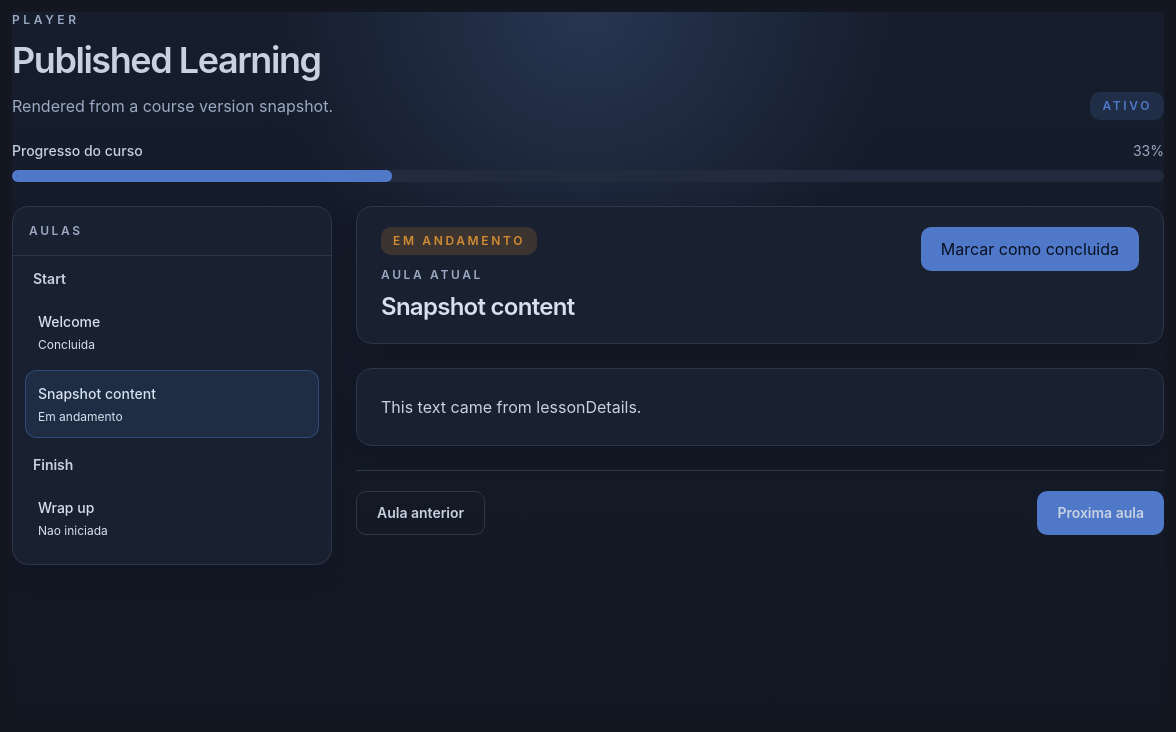
LearningPlayerScreen › marks the current lesson complete and updates progress
Expected: the text "This text came from lessonDetails." is shown, [381,397,642,417]
Click the button "Marcar como concluida": (1030, 249) [921,227,1139,271]
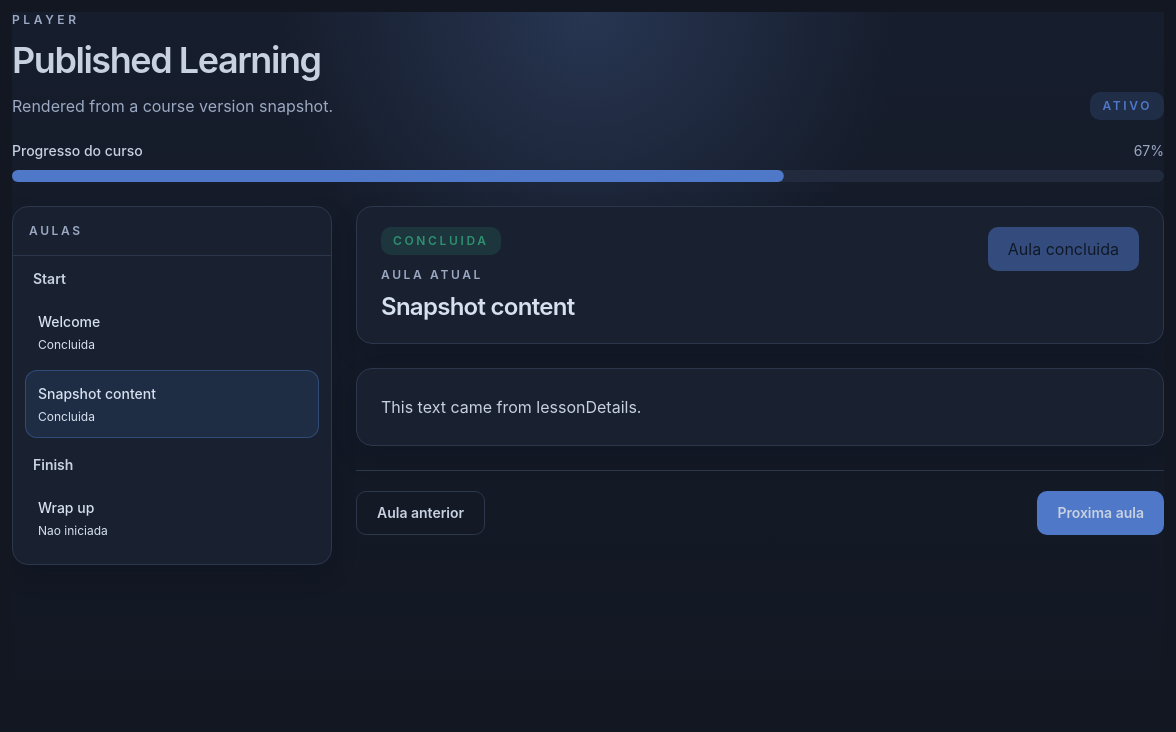
Now the text "67%" is shown, box [1134,140,1164,162]
Now the button "Aula concluida" is disabled, box [988,227,1139,271]
